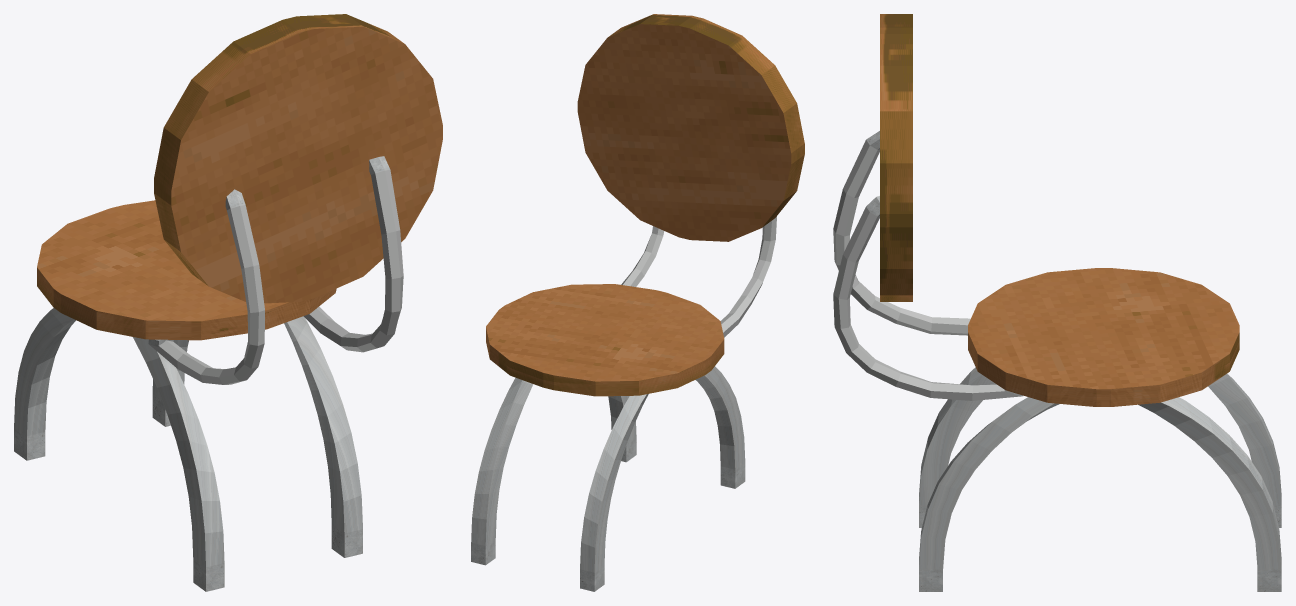
Rendered from Sedia_Cerchio_2.fbx.
3 renders of one model, left to right at view 1: azimuth 30°, elevation 25°; view 2: azimuth 150°, elevation 25°; view 3: azimuth 270°, elevation 25°, orthographic. The views are drawn at different scales.
Visible parts, largest first — view 1: Cube.092; view 2: Cube.092; view 3: Cube.092.
Part boxes in pixels (left/top/right/bottom): Cube.092: left=14, top=14, right=442, bottom=591; Cube.092: left=471, top=14, right=804, bottom=591; Cube.092: left=833, top=14, right=1281, bottom=591.
Size of the model in its own units: 0.7053 by 1.38 by 1.07.
2 materials, 2 textured.
